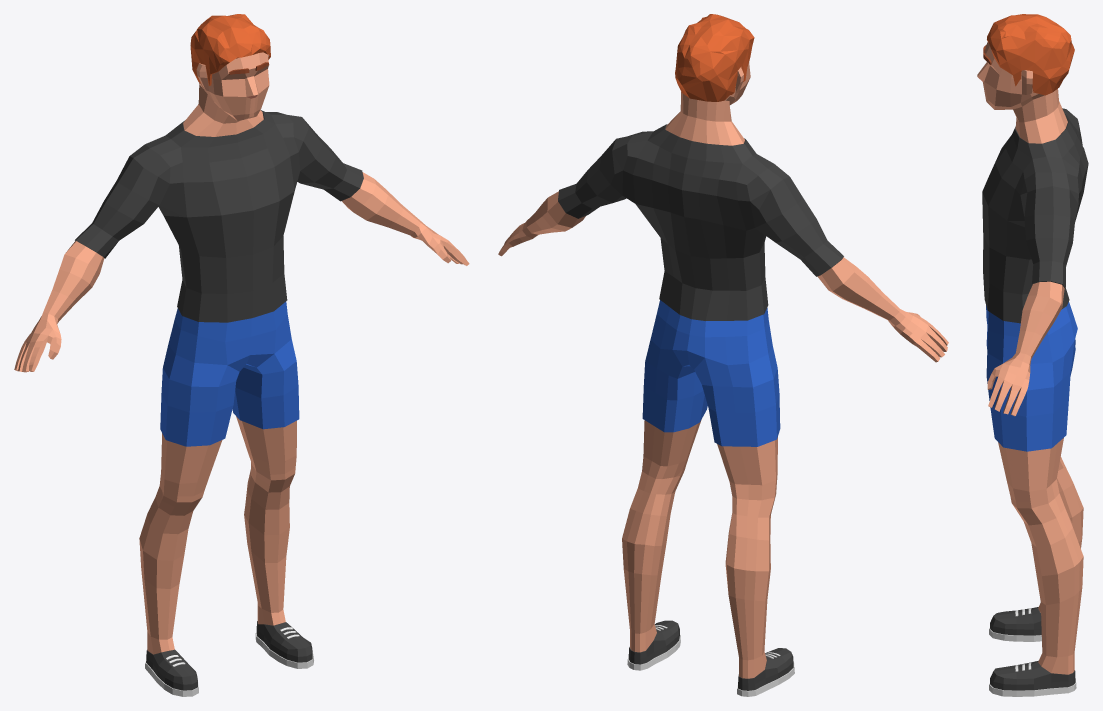
Rendered from scene_lg4tuvOOlY.glb.
The picture shows the model from 3 angles, left to right: view 1: azimuth 30°, elevation 25°; view 2: azimuth 150°, elevation 25°; view 3: azimuth 270°, elevation 25°; orthographic projection.
Visible parts, largest first — view 1: character2; view 2: character2; view 3: character2.
Part boxes in pixels (<box>): character2: <box>14,14,469,696</box>; character2: <box>498,14,948,696</box>; character2: <box>977,14,1088,696</box>.
Bounding box in the file's own units: 1.33 × 1.86 × 0.2901.
